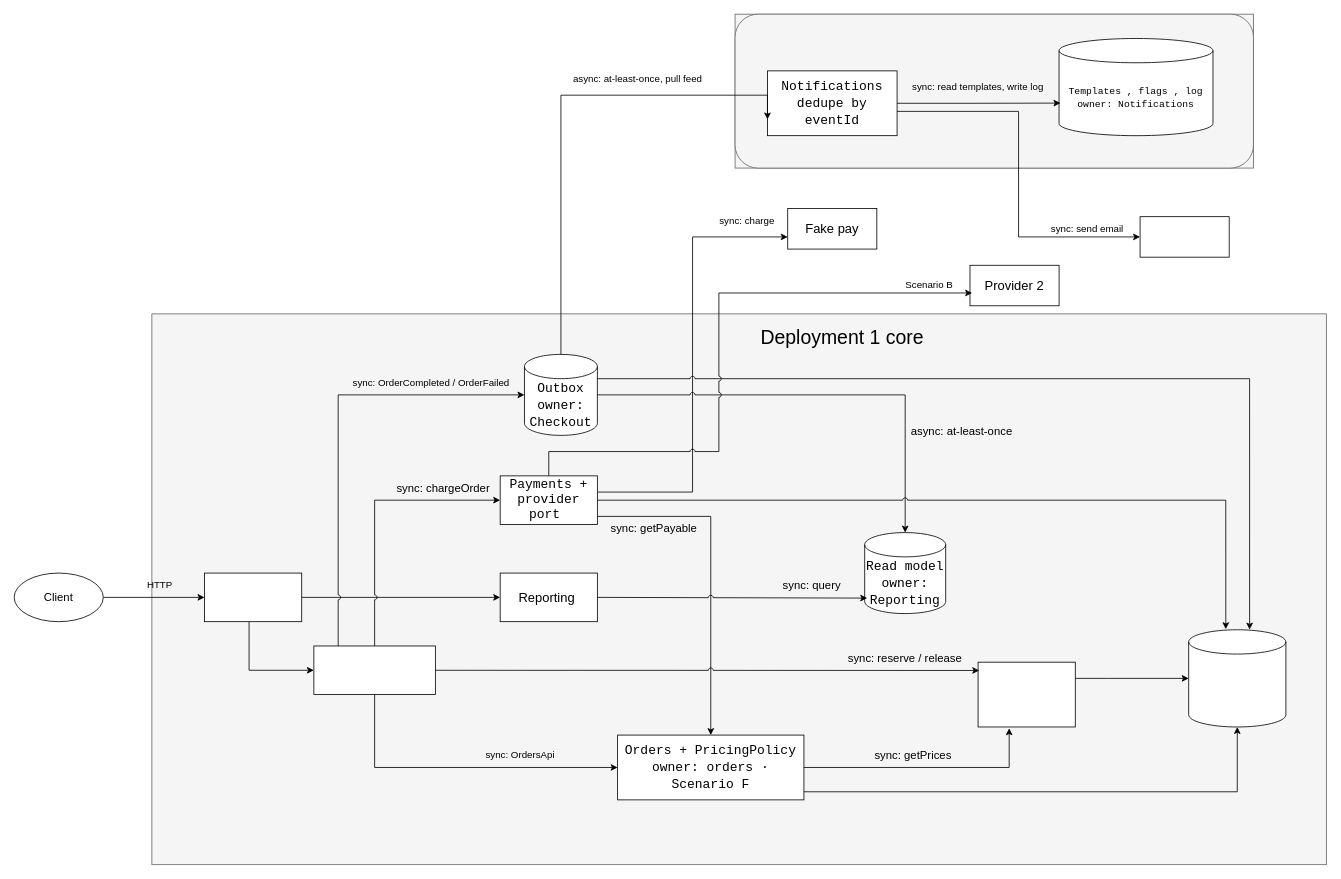
This 1341x879 diagram has some shape labels left out. The shapes that lost their labels are listed below. From the top down, each one's centre as x and y in pixels, then its label:
the point at 1184,236: Fake mail
the point at 253,597: HTTP API
the point at 374,670: Checkout : без виклику email
the point at 1237,678: Durable DB schema per owner
the point at 1026,694: Inventory owner
